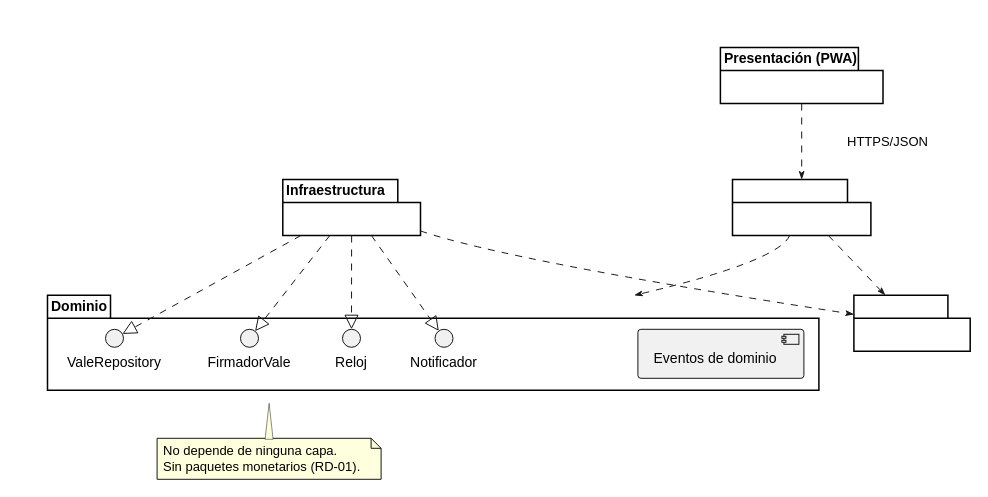
Some shapes in this 988 by 497 pixel diagram are drawn without their labels. The centre of each missing label's shape, as x and y in pixels:
"API y aplicación" goes at point 801,207.
"Transversal" goes at point 911,323.
